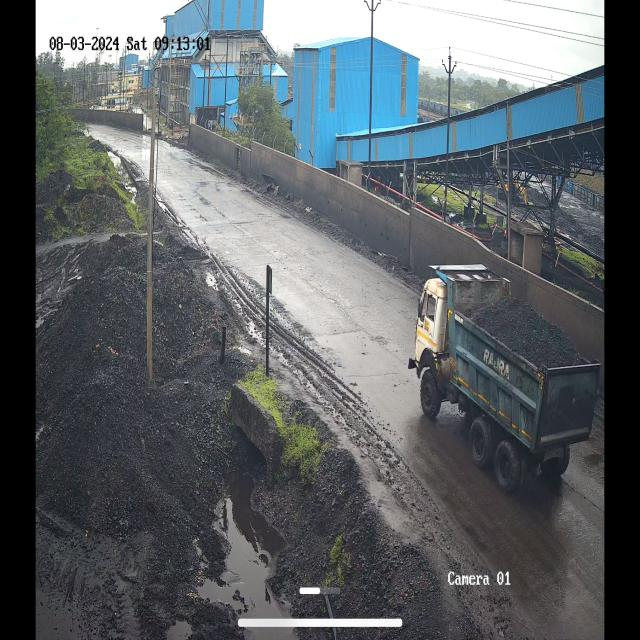dump_truck: (406, 252, 598, 517)
